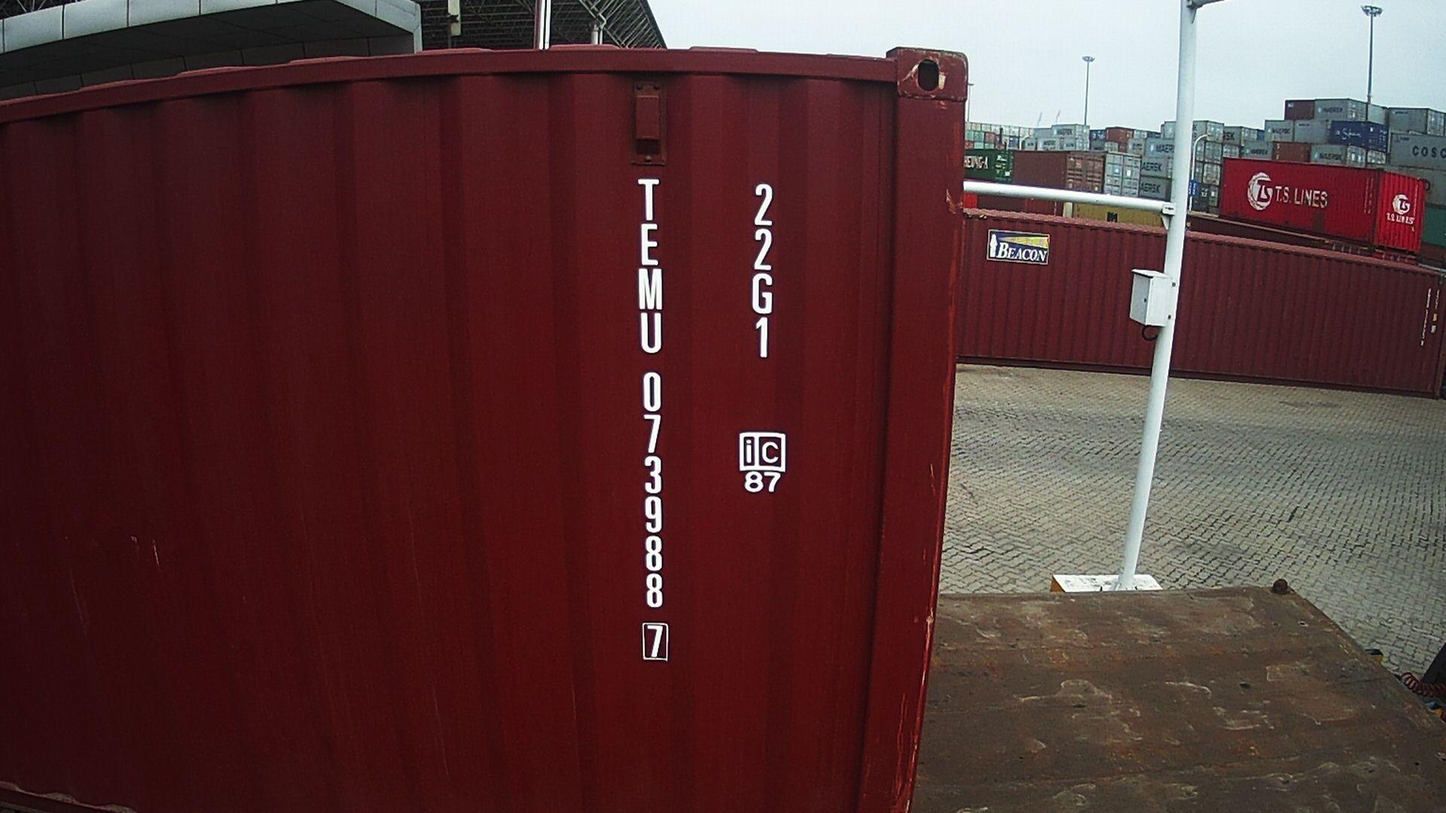container-numbers: (631, 173, 673, 667), (744, 181, 782, 365)
